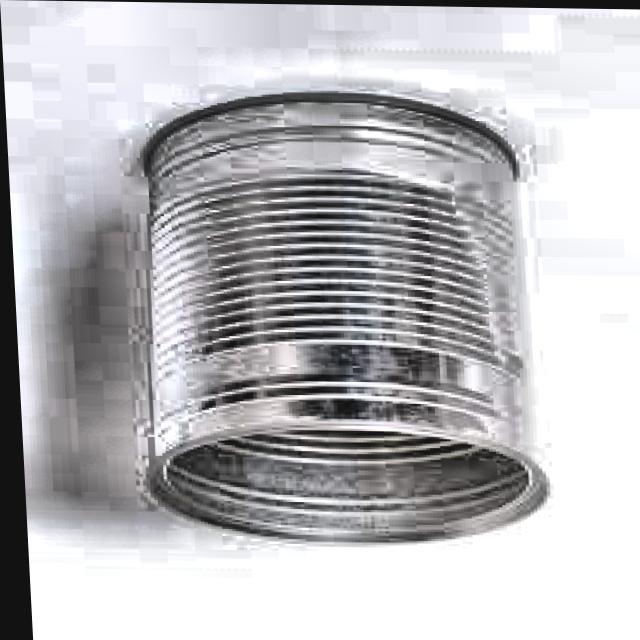can: (116, 71, 547, 554)
